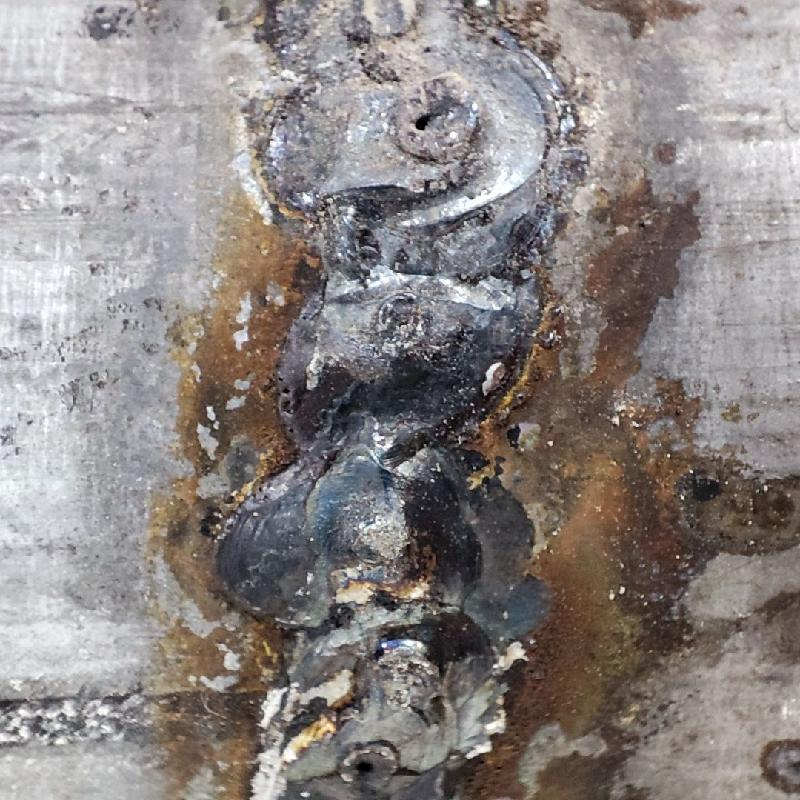Not_fully_soldered: (242, 5, 591, 275)
